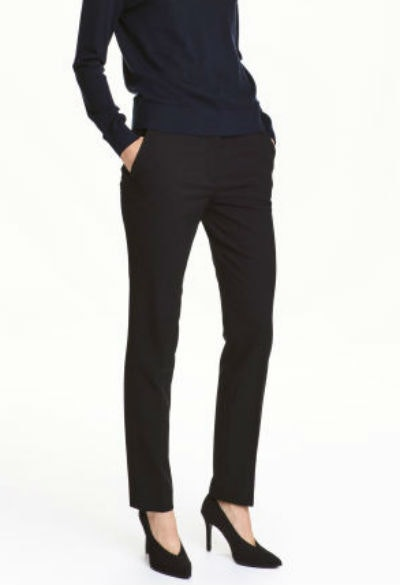feet: (113, 476, 287, 580)
